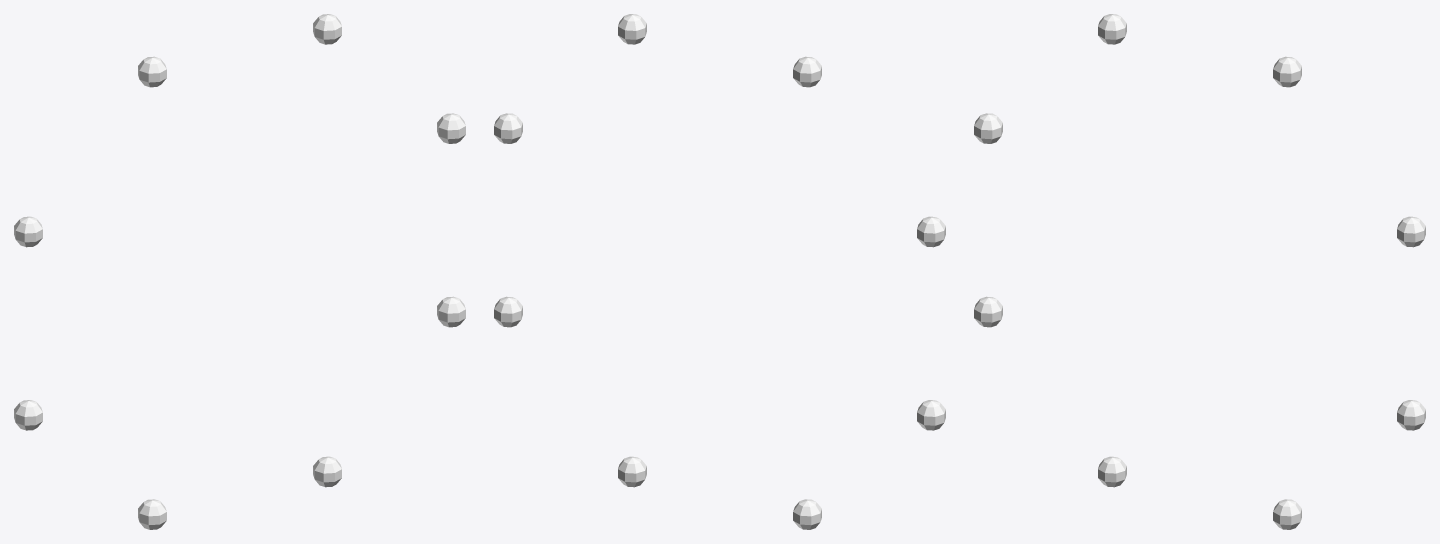
Rendered from RingNodes5.obj.
3 views of the same model, side by side, from view 1: azimuth 30°, elevation 25°; view 2: azimuth 150°, elevation 25°; view 3: azimuth 330°, elevation 25° (orthographic).
Parts seen in each view (by area): view 1: RingNodes5; view 2: RingNodes5; view 3: RingNodes5.
Boxes of the visible parts, box(x1,y1,x2,y2) form: RingNodes5: box(14, 14, 465, 529); RingNodes5: box(494, 14, 945, 529); RingNodes5: box(974, 14, 1425, 529).
Bounding box in the file's own units: 8.24 × 8.26 × 0.4755.
Materials: 1 (1 with a texture image).
